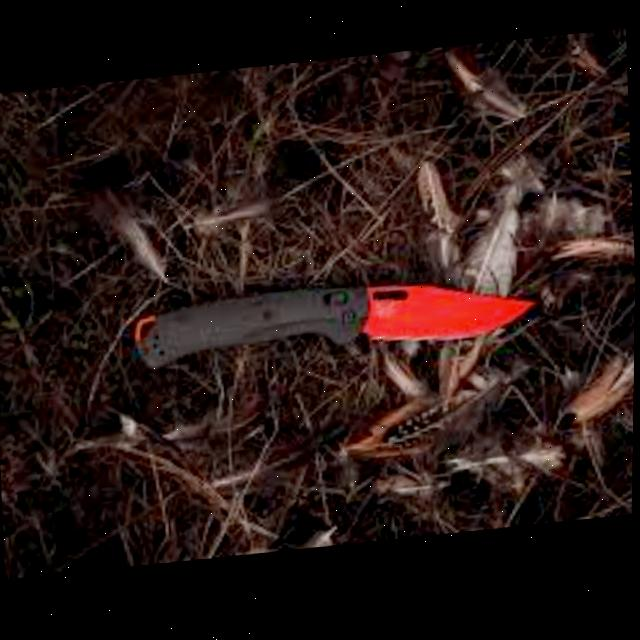Knife: (135, 268, 542, 374)
